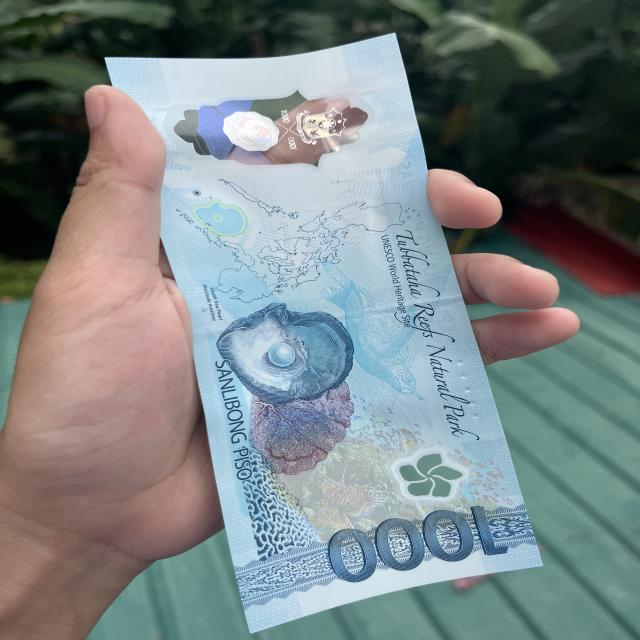clear_window: (121, 70, 420, 186)
sampaguita: (398, 448, 467, 497)
security_thread: (188, 273, 460, 328)
